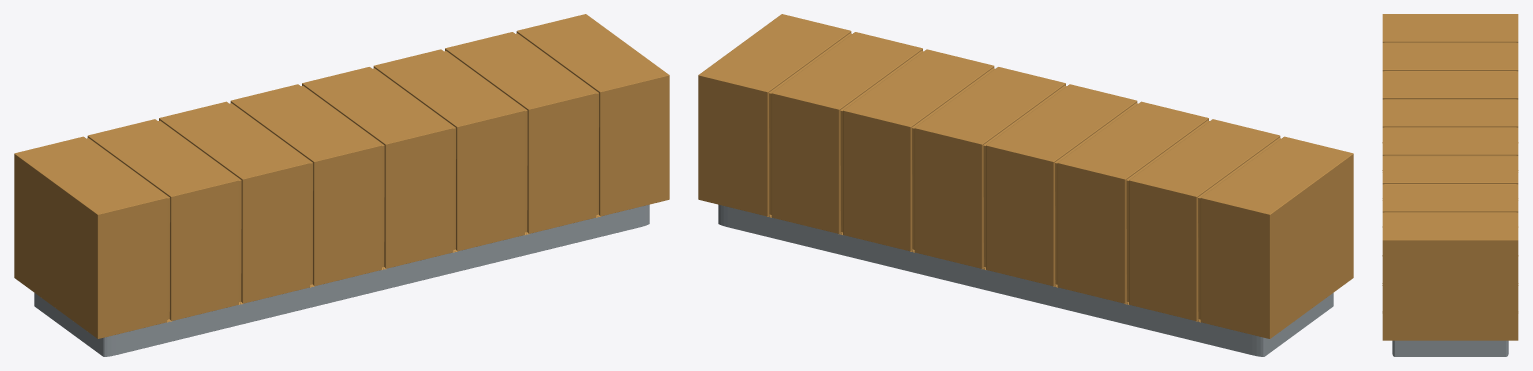
File: insideBench.fbx
The picture shows the model from 3 angles, left to right: view 1: azimuth 30°, elevation 25°; view 2: azimuth 150°, elevation 25°; view 3: azimuth 270°, elevation 25°; orthographic projection. The views are drawn at different scales.
Parts seen in each view (by area): view 1: Cube.001, Cube.002; view 2: Cube.001, Cube.002; view 3: Cube.001, Cube.002.
Part boxes in pixels (x1,y1,x2,y2): Cube.001: (14,14,669,338); Cube.002: (34,204,649,356); Cube.001: (698,14,1353,338); Cube.002: (718,204,1333,356); Cube.001: (1382,14,1518,340); Cube.002: (1392,340,1508,356).
Size of the model in its own units: 240 by 60.61 by 61.3.
